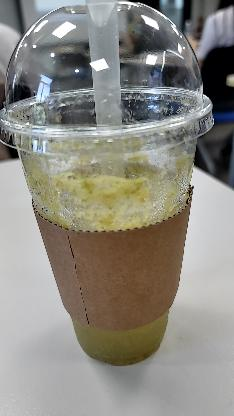Plastic Cup: (1, 0, 216, 369), (0, 0, 214, 162), (79, 1, 131, 192)
